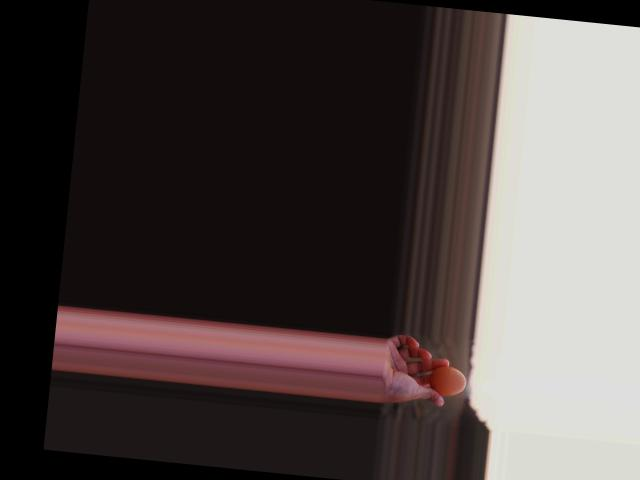egg: (428, 364, 467, 397)
